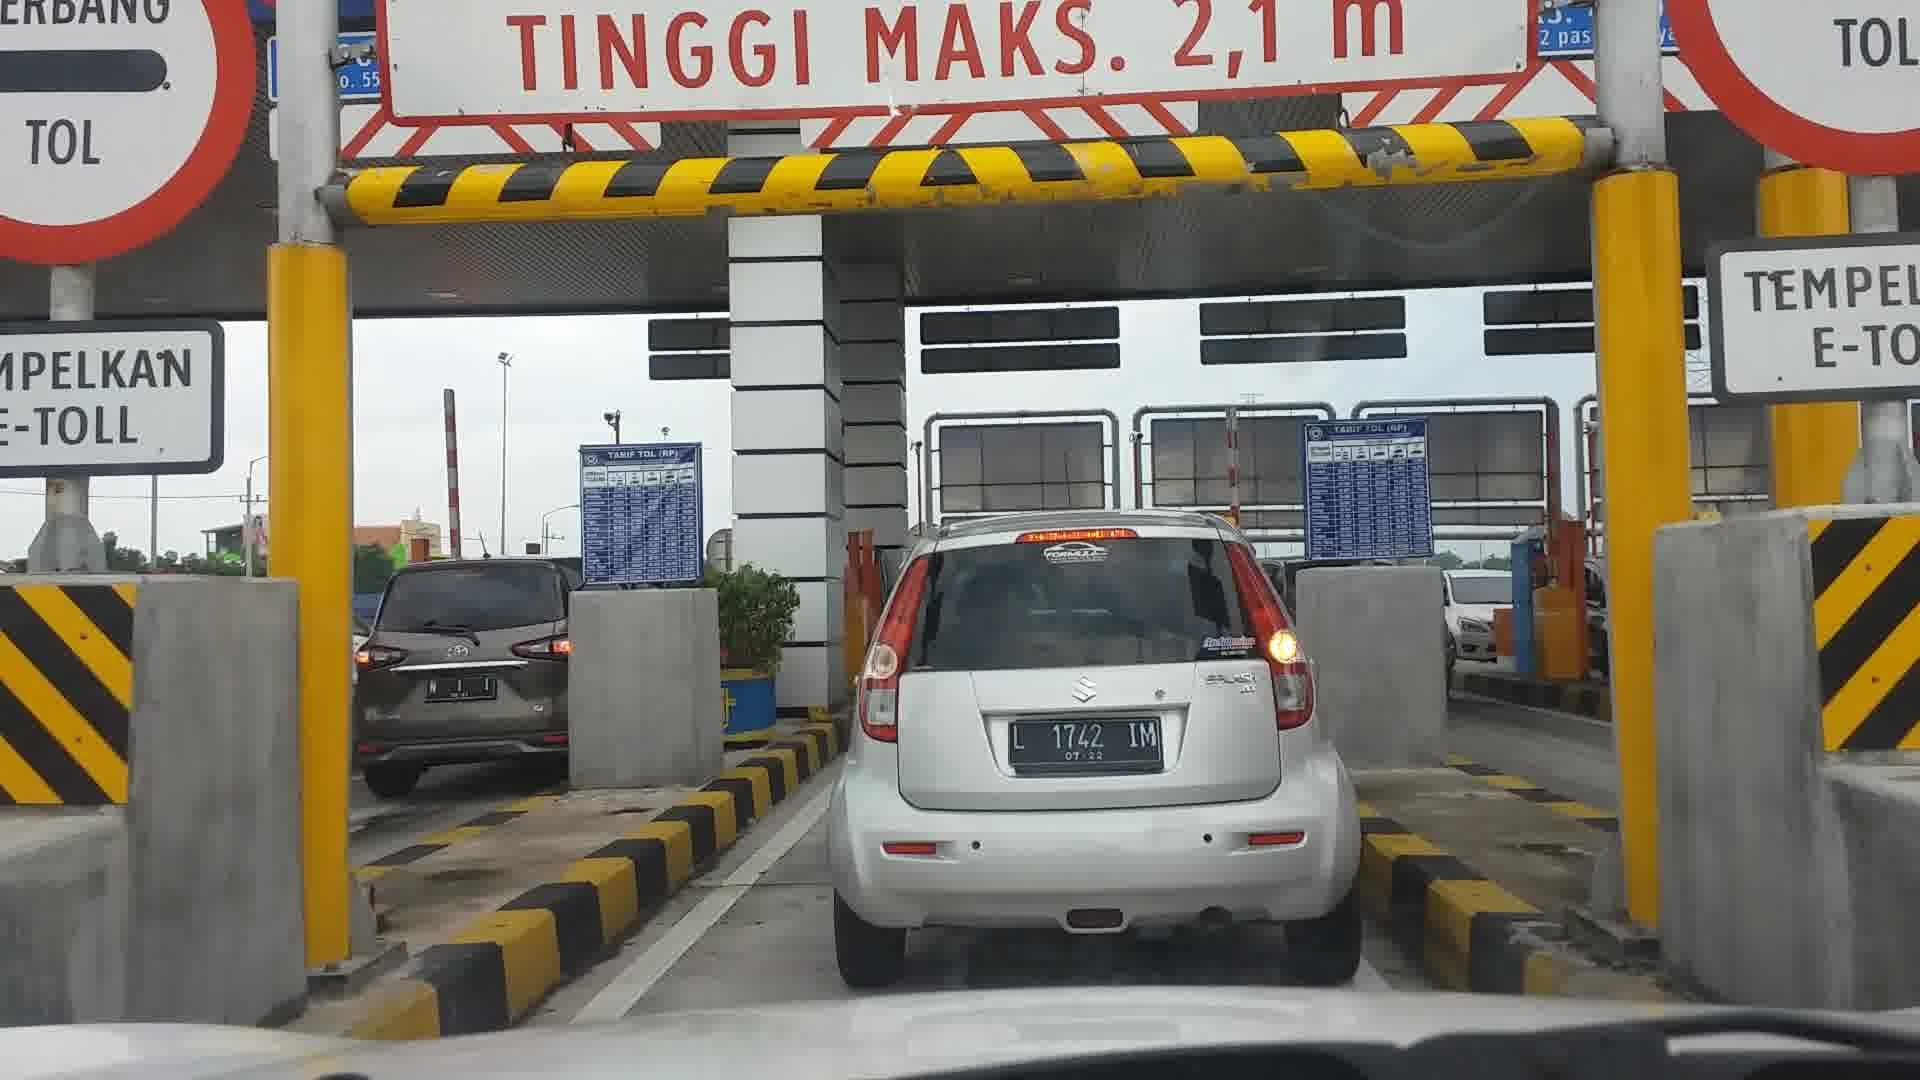plate_positive: (1007, 717, 1164, 775)
